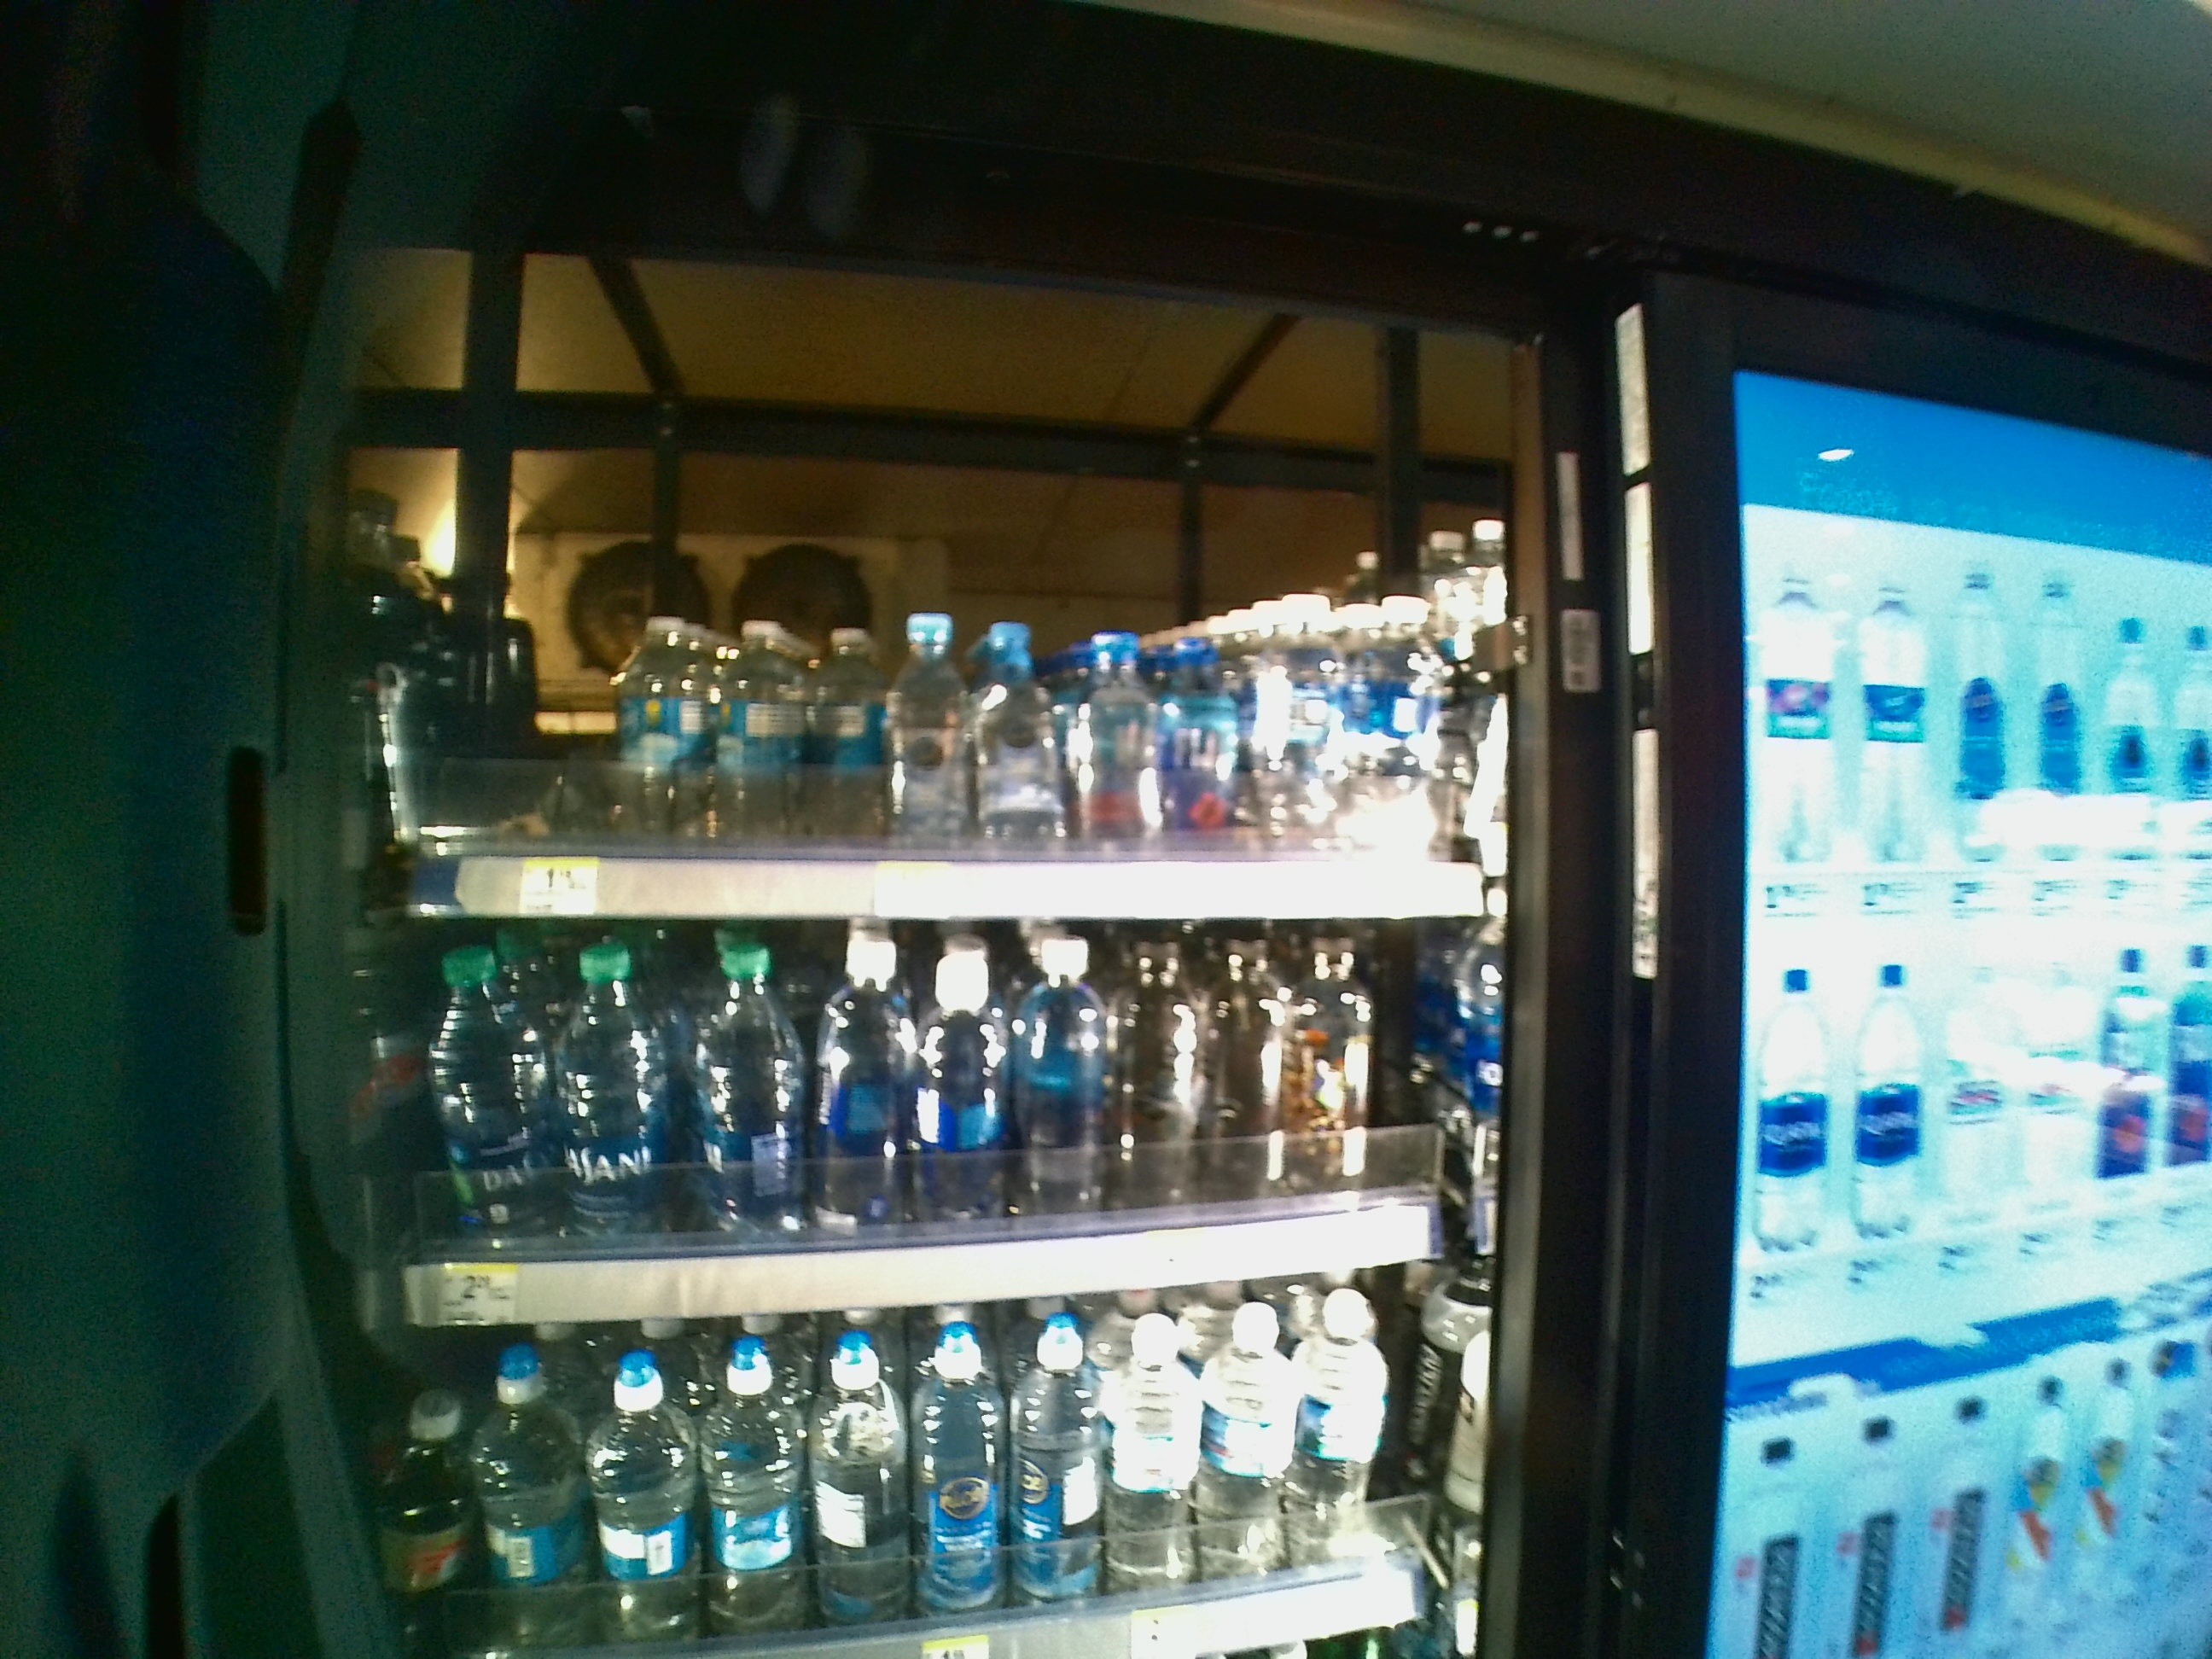shelf: (331, 401, 1524, 932), (334, 927, 1531, 1338)
